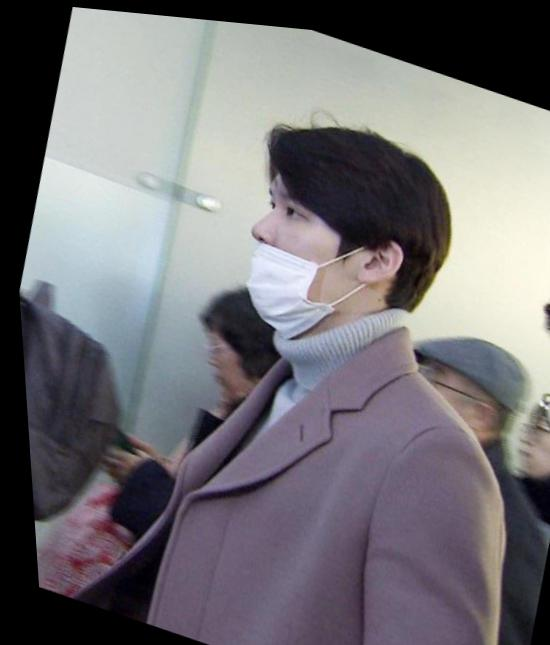NONE: (190, 324, 261, 399), (505, 396, 550, 475)
WRONG: (219, 167, 410, 362)
